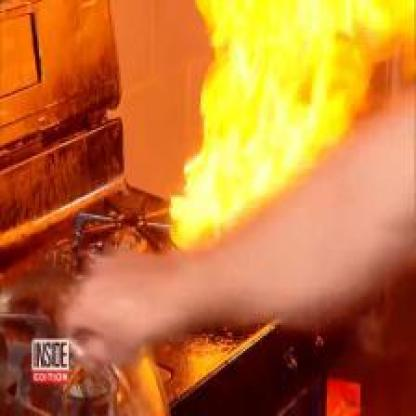Fire: (160, 0, 364, 247)
